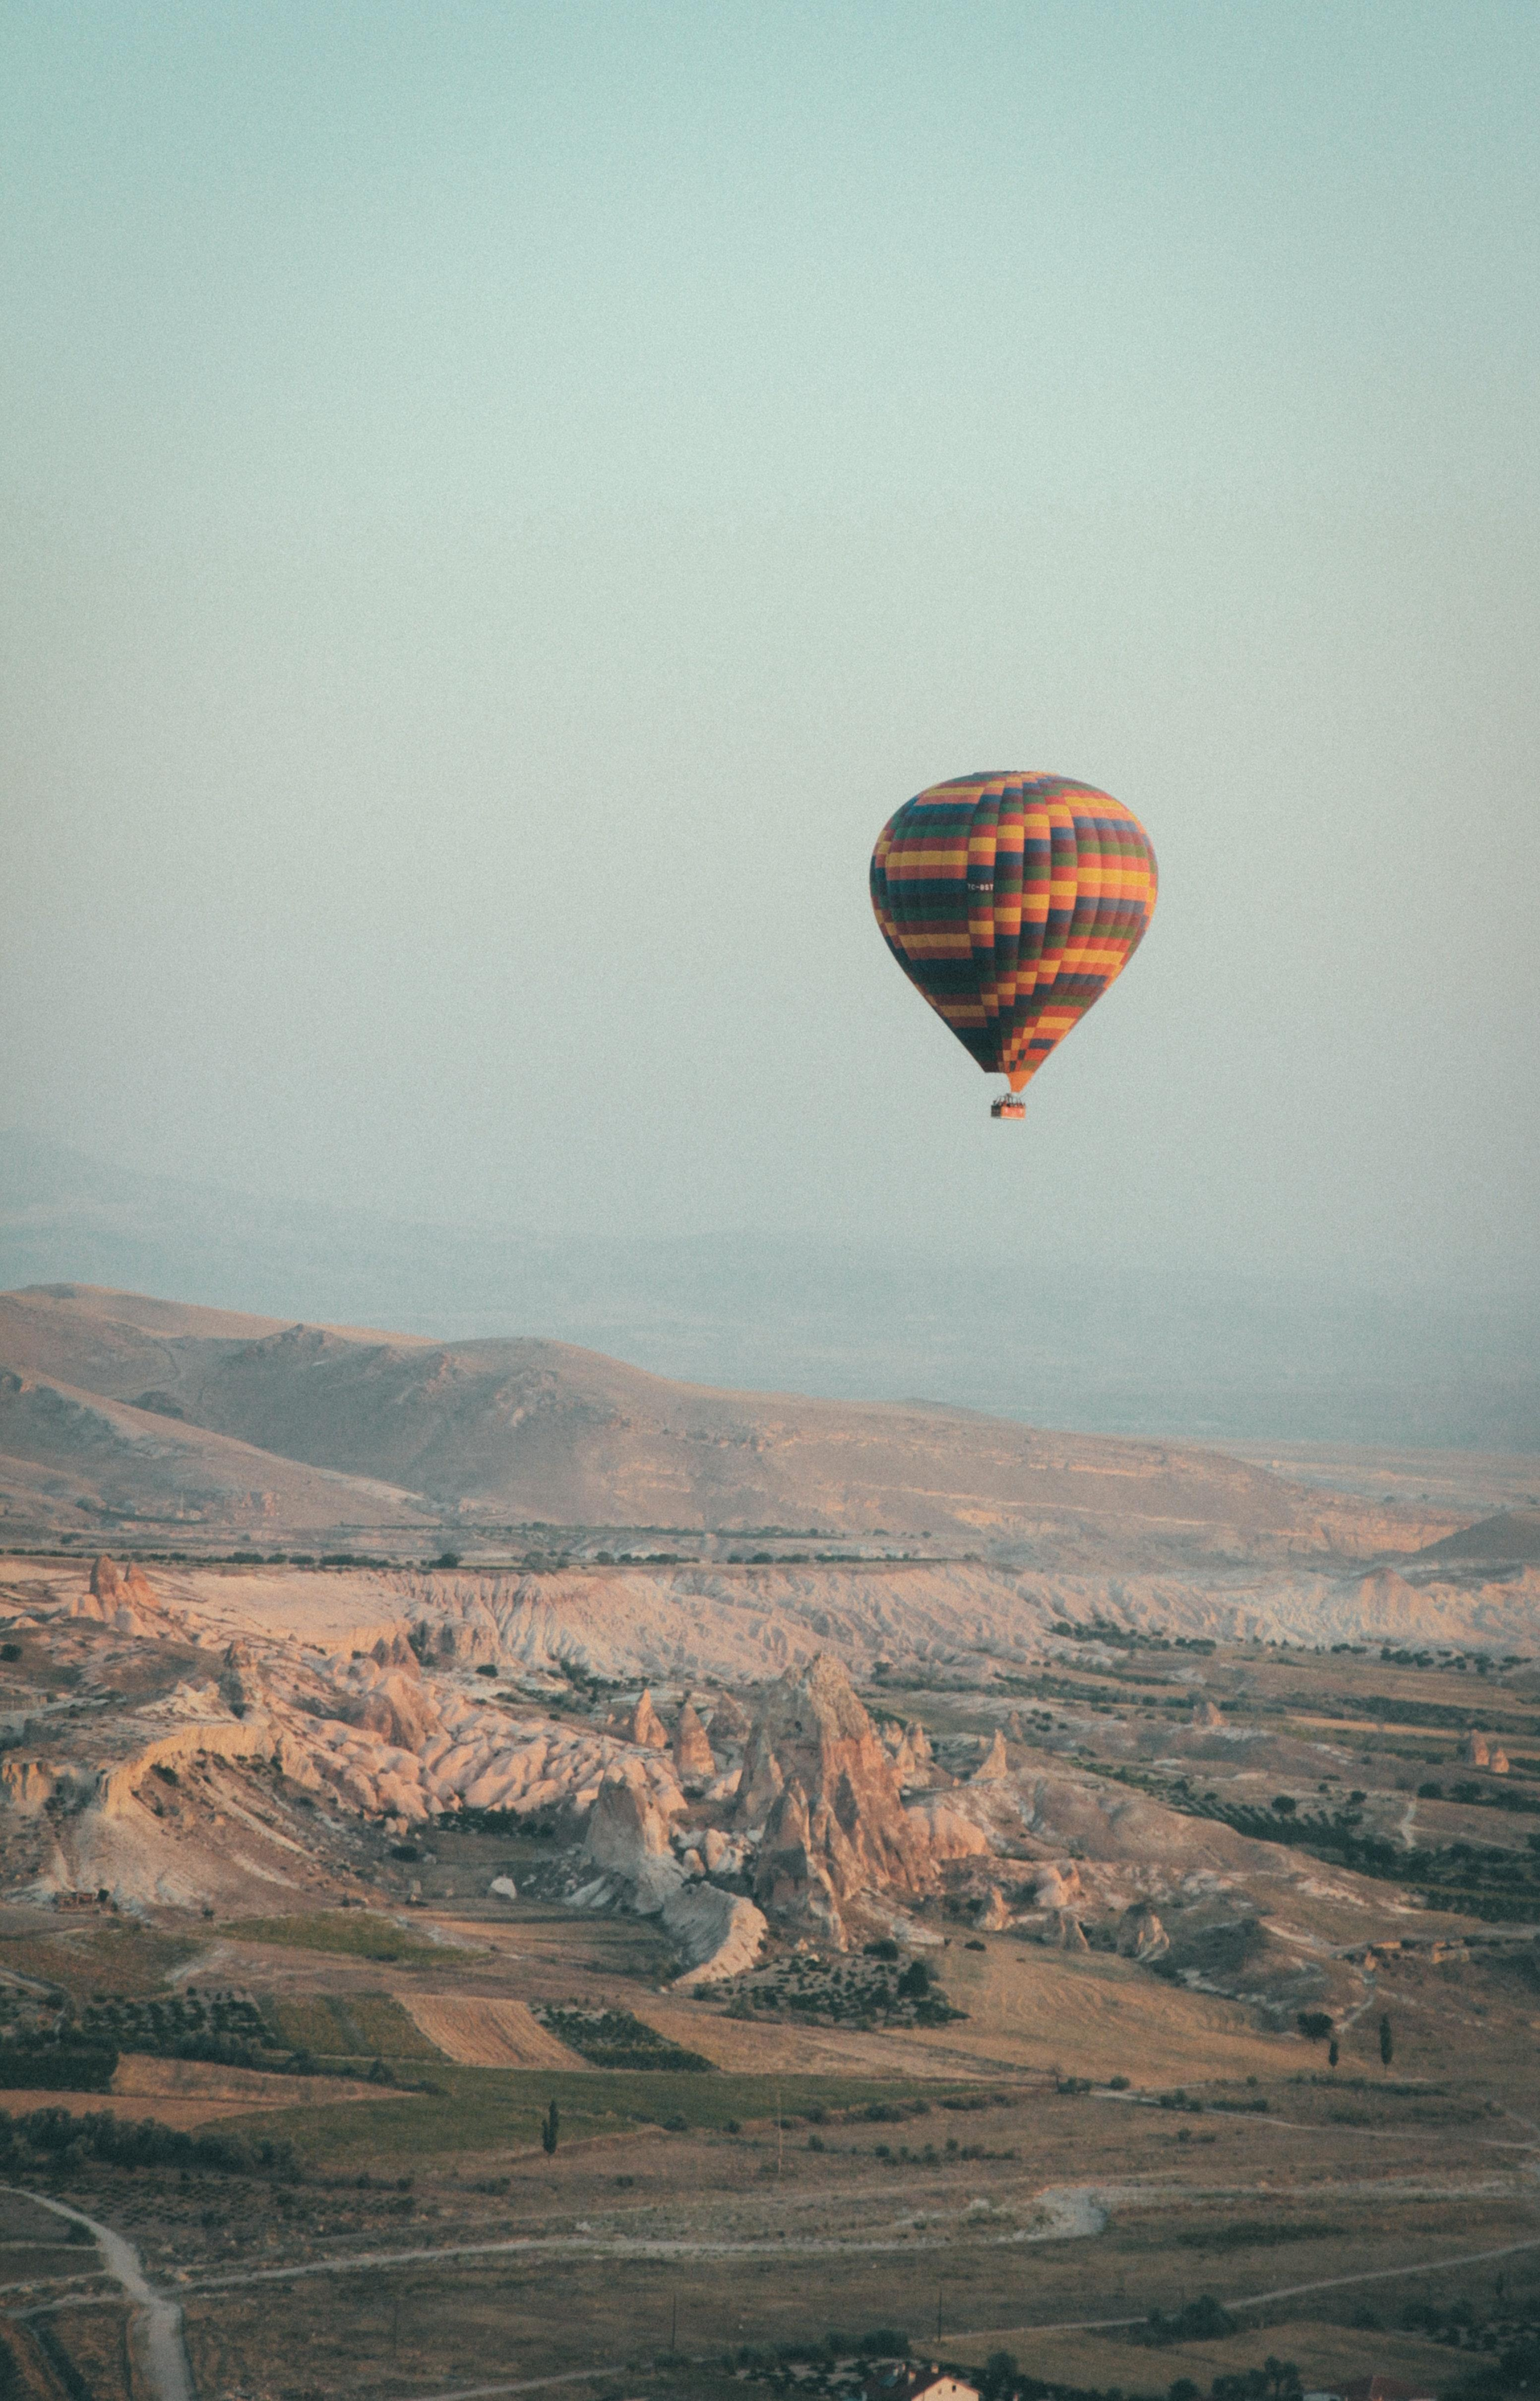hot air ballon: (864, 768, 1160, 1122)
